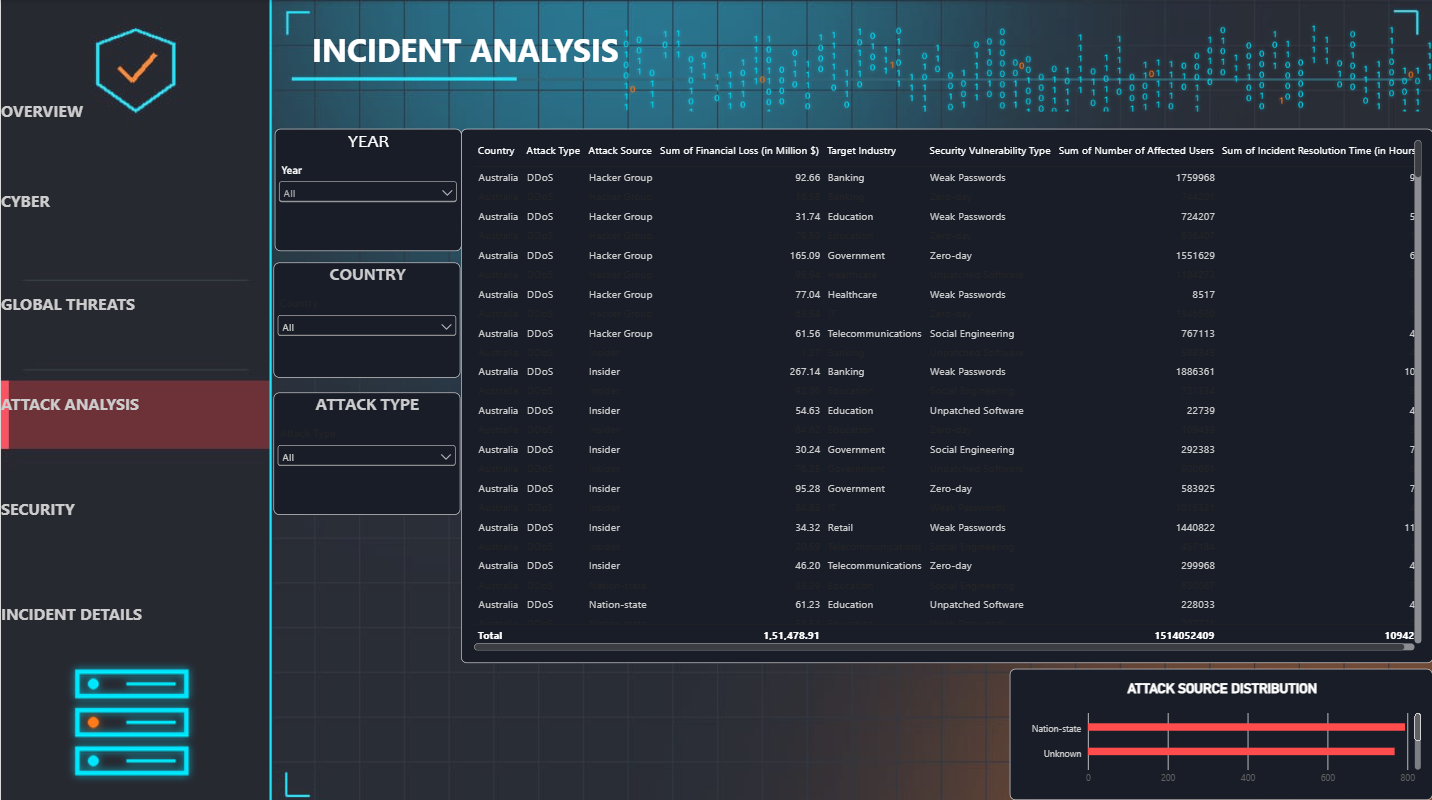

The dashboard page shown, as its layout file describes it:
{"tool":"powerbi","page":{"name":"INCIDENT ANALYSIS","canvas":[1920,1080],"ordinal":2},"visuals":[{"type":"textbox","box":[0,134,290,120],"z":0},{"type":"textbox","box":[0,254,290,138],"z":1000},{"type":"textbox","box":[0,392,290,86],"z":2000},{"type":"textbox","box":[0,526,290,126],"z":3000},{"type":"textbox","box":[0,666,290,142],"z":4000},{"type":"textbox","box":[0,808,290,132],"z":5000},{"type":"textbox","box":[290,0,1584,118],"z":7000},{"type":"slicer","title":"YEAR","fields":{"Values":["Global_Cybersecurity_Threats_2015-2024.Year"]},"box":[366,172,250,164],"z":8000},{"type":"slicer","title":"COUNTRY","fields":{"Values":["Global_Cybersecurity_Threats_2015-2024.Country"]},"box":[365.8,352.3,250.7,154.1],"z":9000},{"type":"slicer","title":"ATTACK TYPE","fields":{"Values":["Global_Cybersecurity_Threats_2015-2024.Attack Type"]},"box":[365.8,526.7,250,164],"z":10000},{"type":"clusteredBarChart","title":"ATTACK SOURCE DISTRIBUTION","fields":{"Category":["Global_Cybersecurity_Threats_2015-2024.Attack Source"],"Y":["CountNonNull(Global_Cybersecurity_Threats_2015-2024.Attack Source)"]},"box":[1352,896,568,176],"z":11000},{"type":"image","box":[834,0,1086,180],"z":12000},{"type":"tableEx","fields":{"Values":["Global_Cybersecurity_Threats_2015-2024.Country","Global_Cybersecurity_Threats_2015-2024.Attack Type","Global_Cybersecurity_Threats_2015-2024.Attack Source","Sum(Global_Cybersecurity_Threats_2015-2024.Financial Loss (in Million $))","Global_Cybersecurity_Threats_2015-2024.Target Industry","Global_Cybersecurity_Threats_2015-2024.Security Vulnerability Type","Sum(Global_Cybersecurity_Threats_2015-2024.Number of Affected Users)","Sum(Global_Cybersecurity_Threats_2015-2024.Incident Resolution Time (in Hours))"]},"box":[616,172,1304,716],"z":13000},{"type":"image","box":[20,860,310,220],"z":14000}]}

Visuals, with their boxes on the page's 1920x1080 design canvas (x1, y1, x2, y2). These are canvas units, not pixel positions in the 1432x800 screenshot, which may show the page scaled, cropped or inside an application window:
textbox: (left=0, top=134, right=290, bottom=254)
textbox: (left=0, top=254, right=290, bottom=392)
textbox: (left=0, top=392, right=290, bottom=478)
textbox: (left=0, top=526, right=290, bottom=652)
textbox: (left=0, top=666, right=290, bottom=808)
textbox: (left=0, top=808, right=290, bottom=940)
textbox: (left=290, top=0, right=1874, bottom=118)
"YEAR" slicer: (left=366, top=172, right=616, bottom=336)
"COUNTRY" slicer: (left=366, top=352, right=616, bottom=506)
"ATTACK TYPE" slicer: (left=366, top=527, right=616, bottom=691)
"ATTACK SOURCE DISTRIBUTION" clusteredBarChart: (left=1352, top=896, right=1920, bottom=1072)
image: (left=834, top=0, right=1920, bottom=180)
tableEx - Global_Cybersecurity_Threats_2015-2024.Country x Global_Cybersecurity_Threats_2015-2024.Attack Type: (left=616, top=172, right=1920, bottom=888)
image: (left=20, top=860, right=330, bottom=1080)
